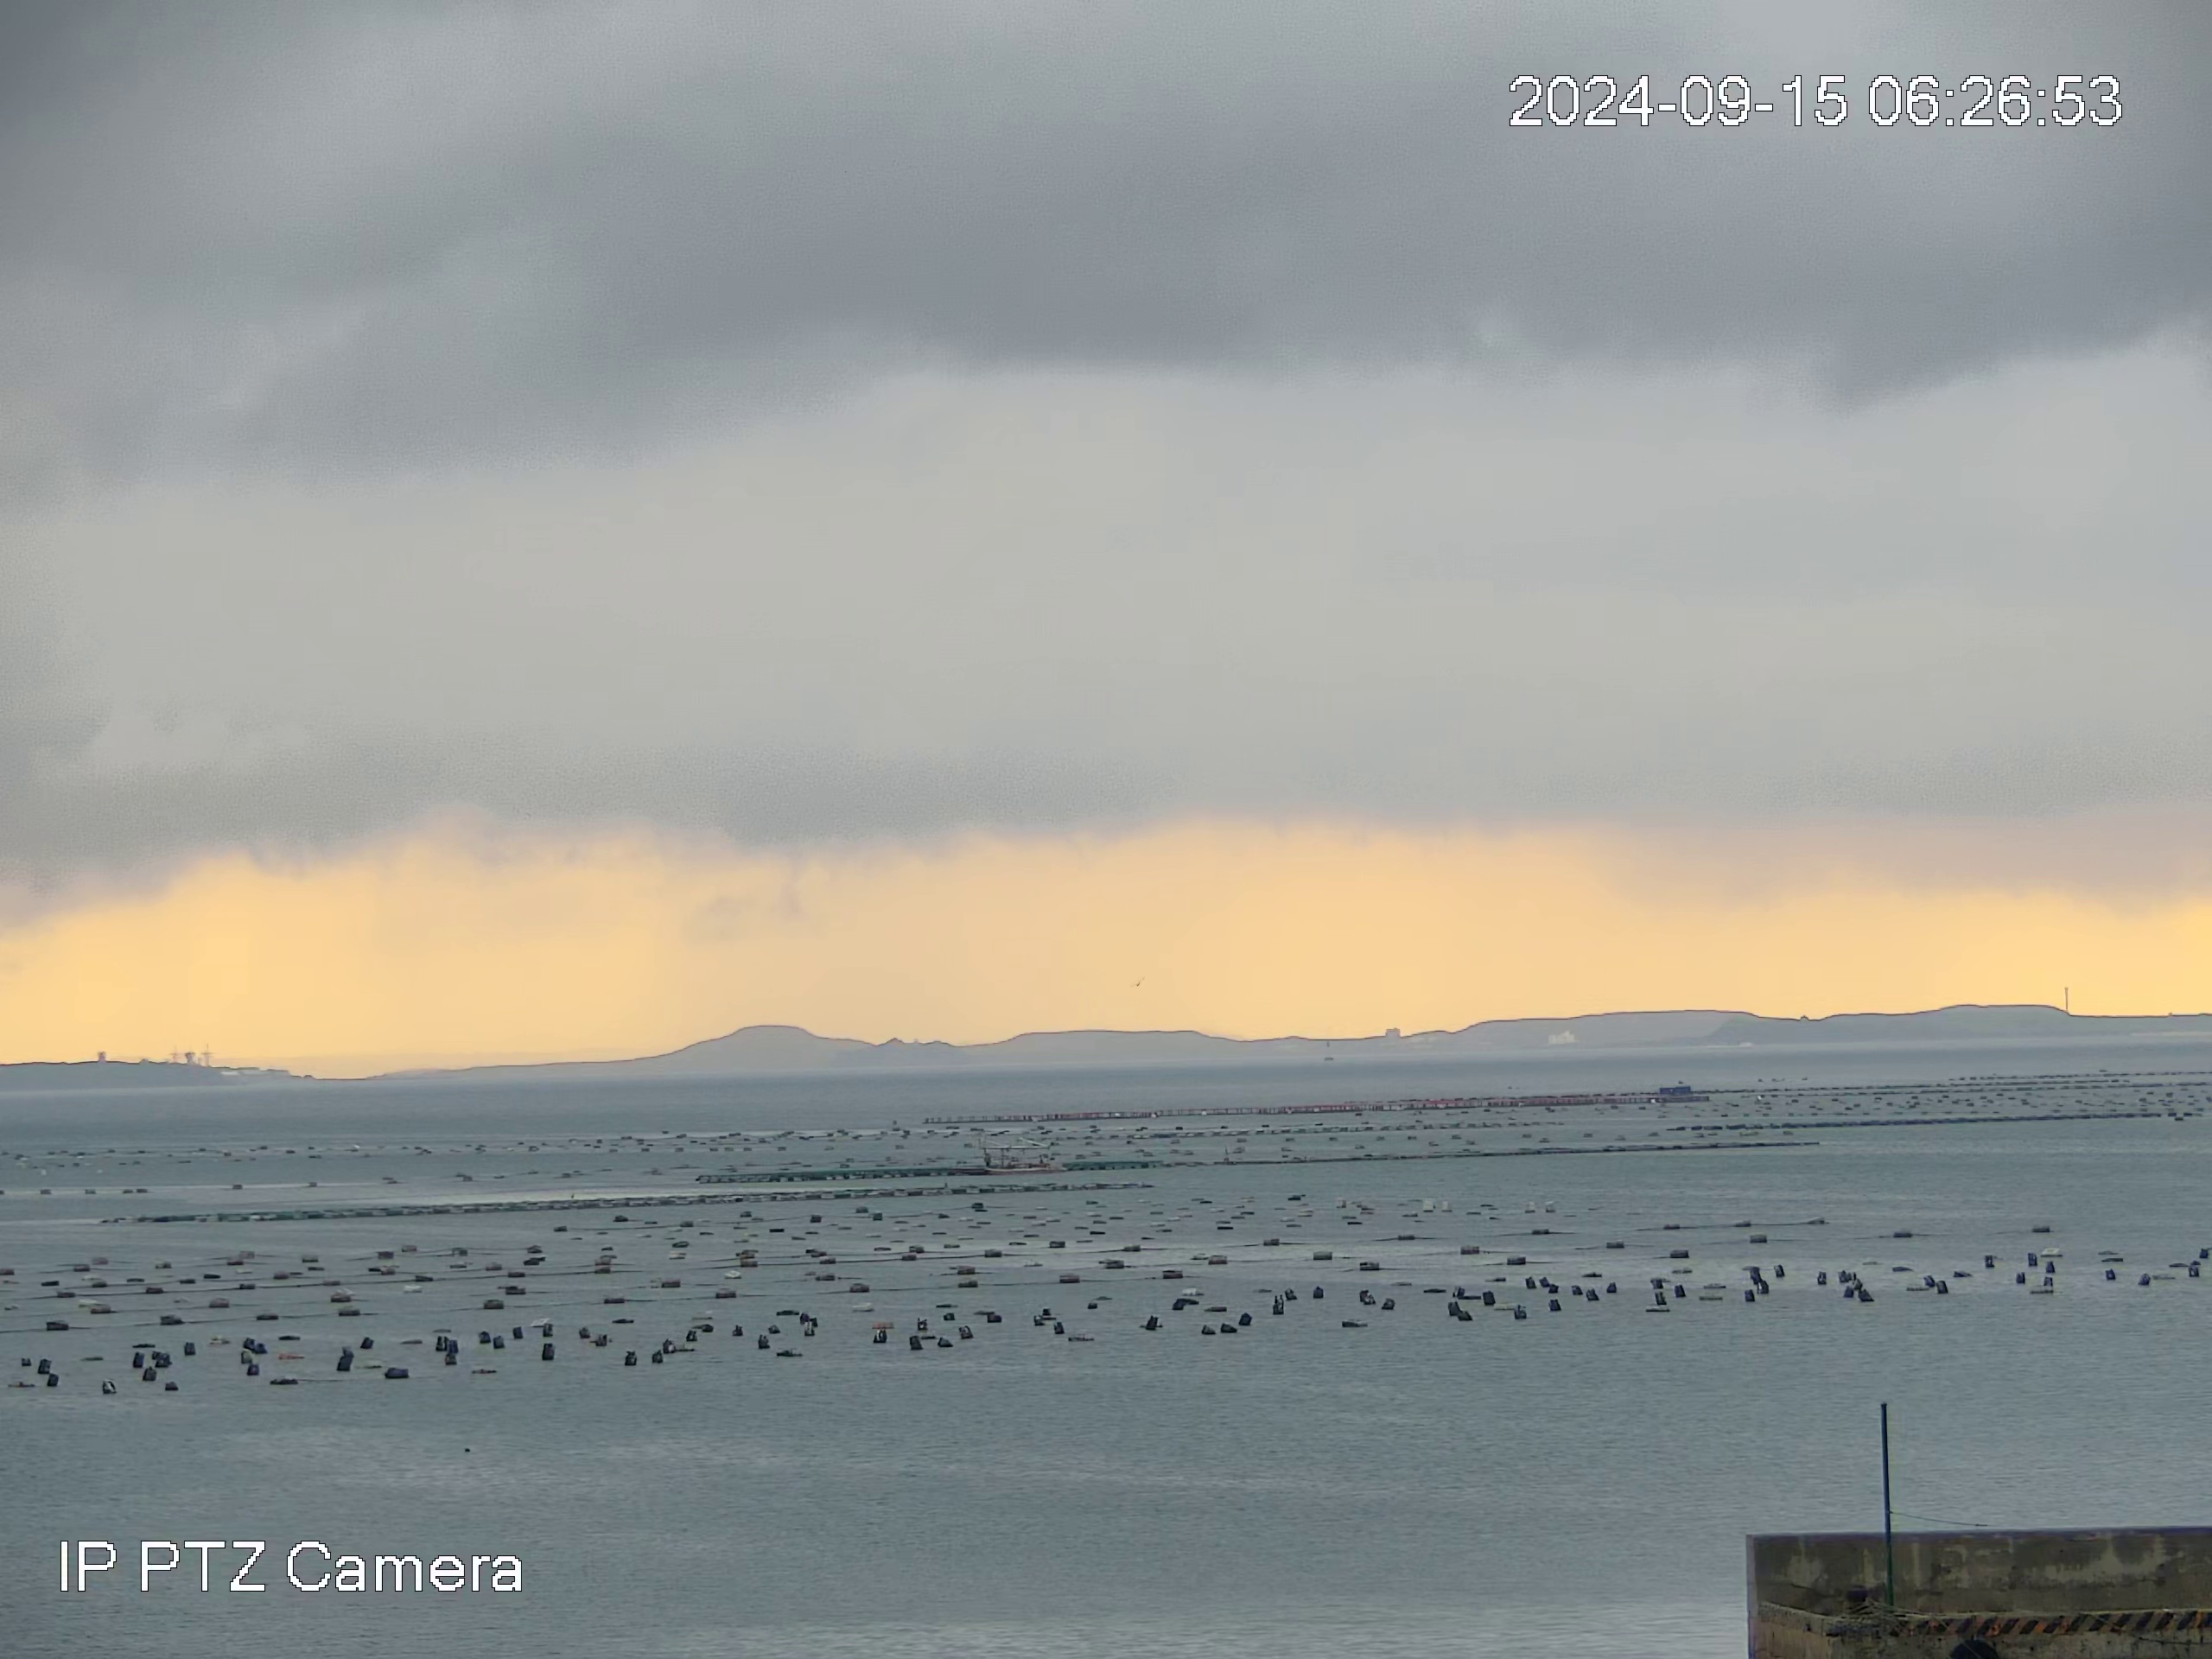boat: (973, 1132, 1071, 1175)
